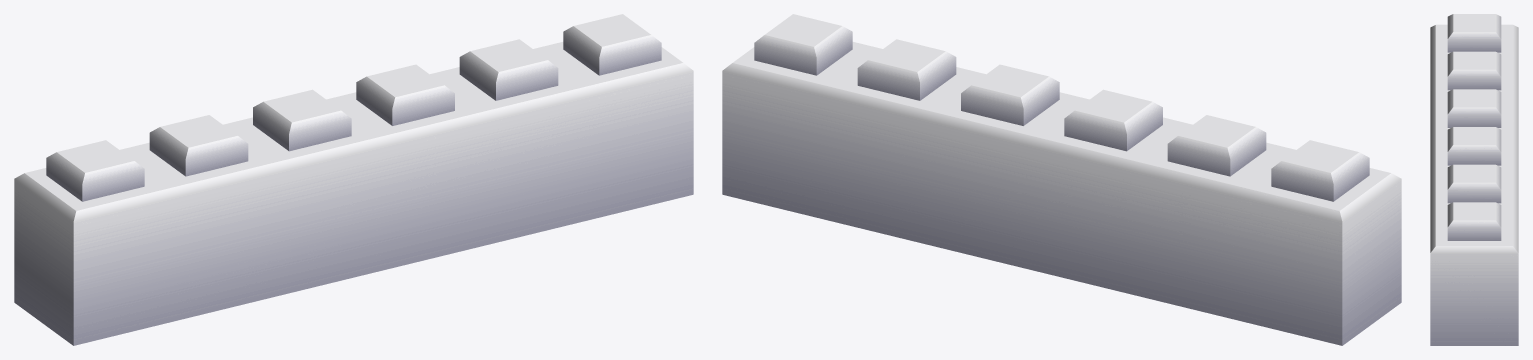
The model's file is square-hq-brick-1x6.glb.
The picture shows the model from 3 angles, left to right: view 1: azimuth 30°, elevation 25°; view 2: azimuth 150°, elevation 25°; view 3: azimuth 270°, elevation 25°; orthographic projection. The views are drawn at different scales.
Visible parts, largest first — view 1: square-hq-brick-1x6; view 2: square-hq-brick-1x6; view 3: square-hq-brick-1x6.
Part boxes in pixels (x1=…): square-hq-brick-1x6: x1=14, y1=14, x2=693, y2=345; square-hq-brick-1x6: x1=722, y1=14, x2=1401, y2=345; square-hq-brick-1x6: x1=1430, y1=14, x2=1518, y2=345.
Size of the model in its own units: 2.39 by 0.57 by 0.395.
Materials: 1 (1 with a texture image).
